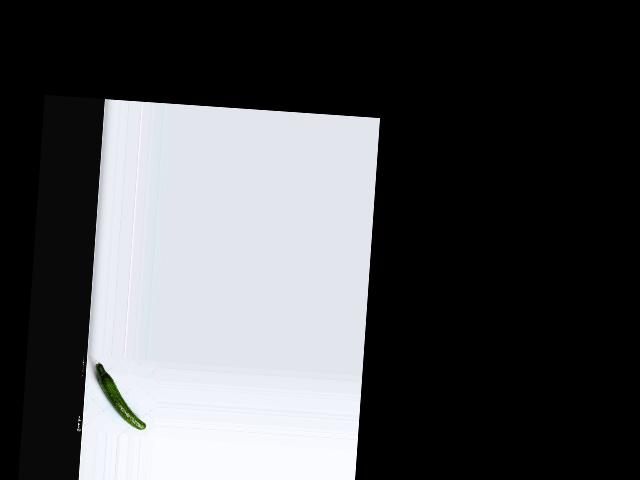cucumber: (91, 361, 149, 429)
